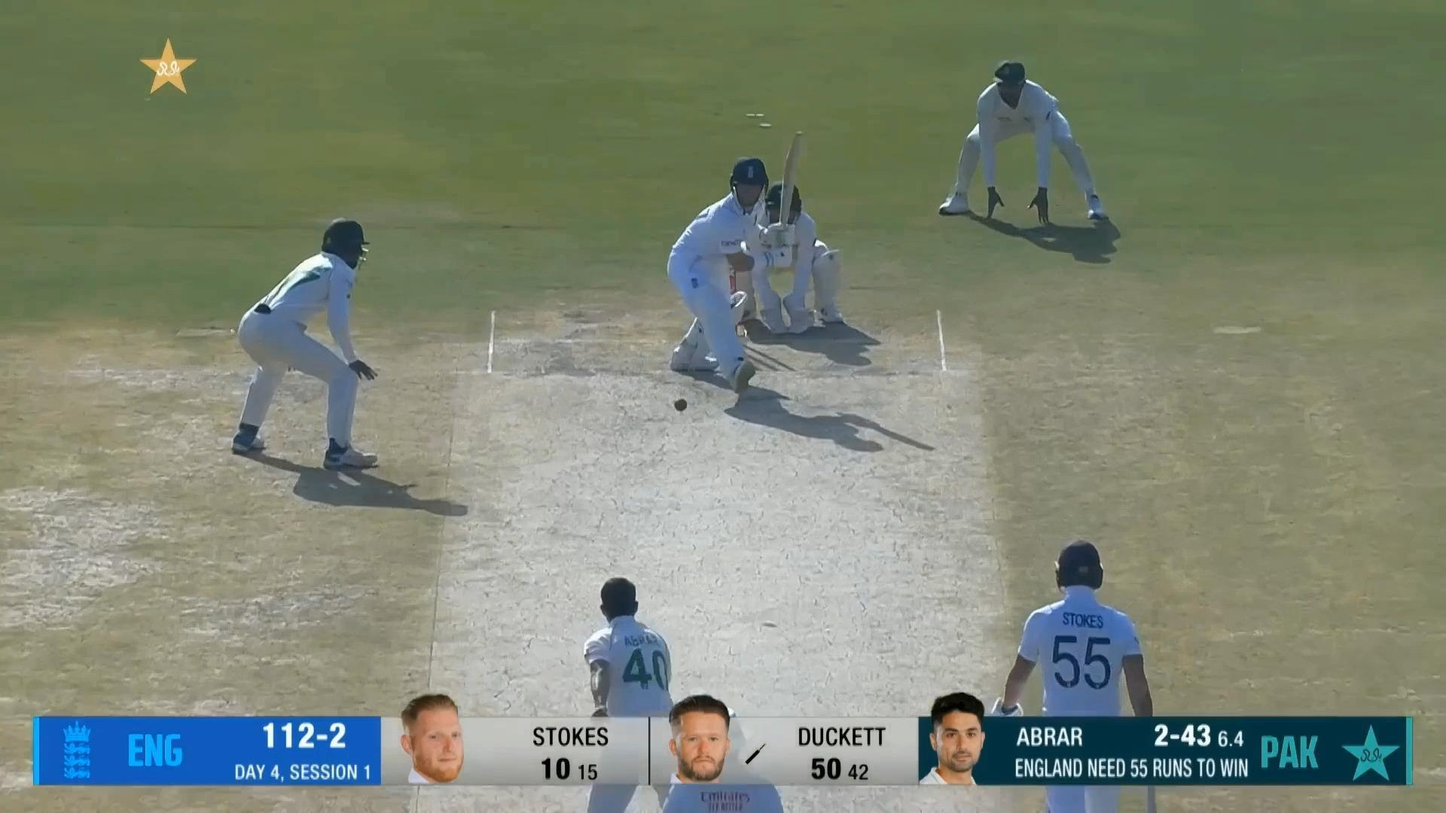BM 1: (667, 131, 804, 393)
BO: (582, 576, 685, 813)
